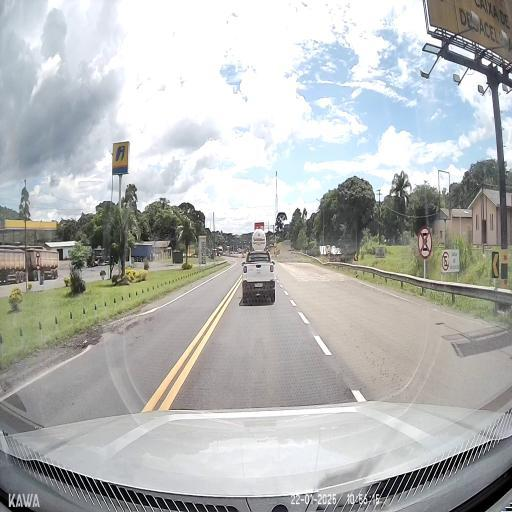R-6a: (442, 251, 450, 271)
R-6c: (418, 226, 432, 258), (35, 252, 41, 270)
